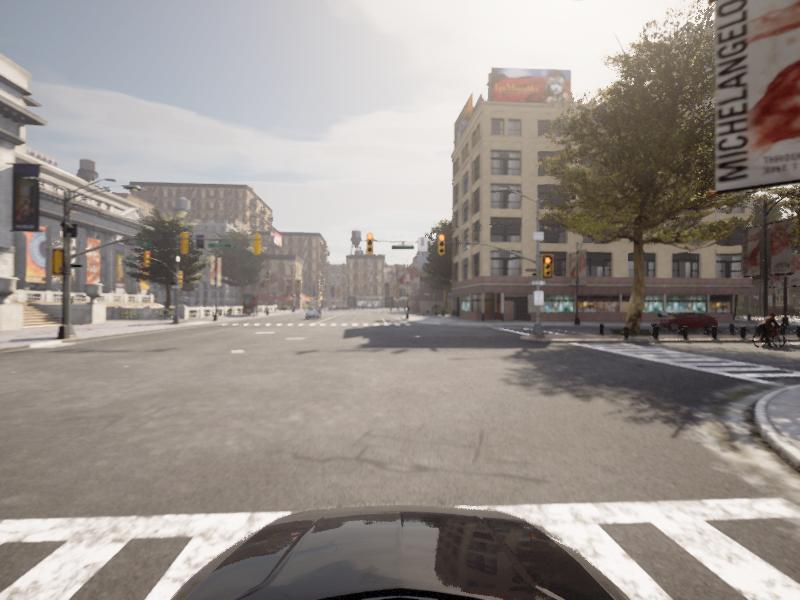vehicle: (747, 312, 792, 348), (646, 311, 722, 331)
